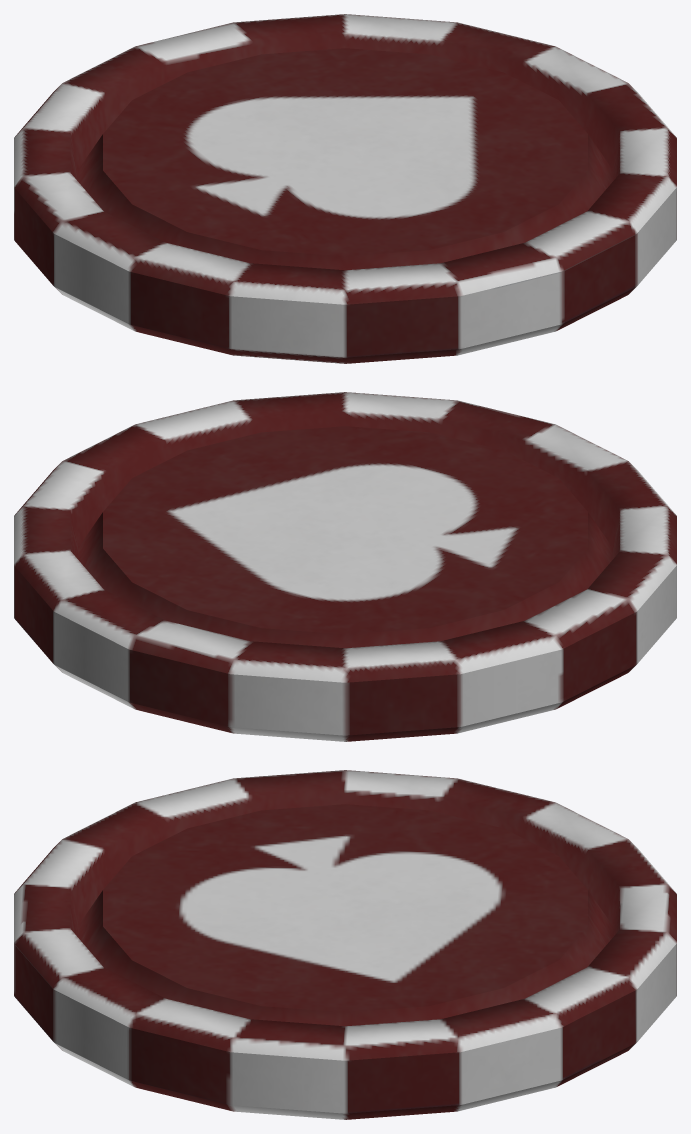
File: Poker_Coin_Platform_2.fbx
3 renders of one model, top to bottom at view 1: azimuth 30°, elevation 25°; view 2: azimuth 150°, elevation 25°; view 3: azimuth 270°, elevation 25°, orthographic.
Visible parts, largest first — view 1: Poker_Coin_Platform_Red; view 2: Poker_Coin_Platform_Red; view 3: Poker_Coin_Platform_Red.
Part boxes in pixels (bbox=[...]): Poker_Coin_Platform_Red: bbox=[14, 14, 676, 363]; Poker_Coin_Platform_Red: bbox=[14, 392, 676, 741]; Poker_Coin_Platform_Red: bbox=[14, 770, 676, 1119].
Size of the model in its own units: 10.57 by 1.27 by 10.41.
